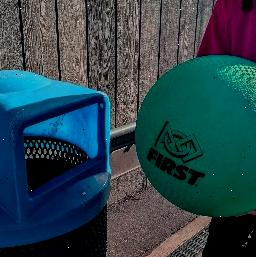algae: (132, 55, 256, 212)
